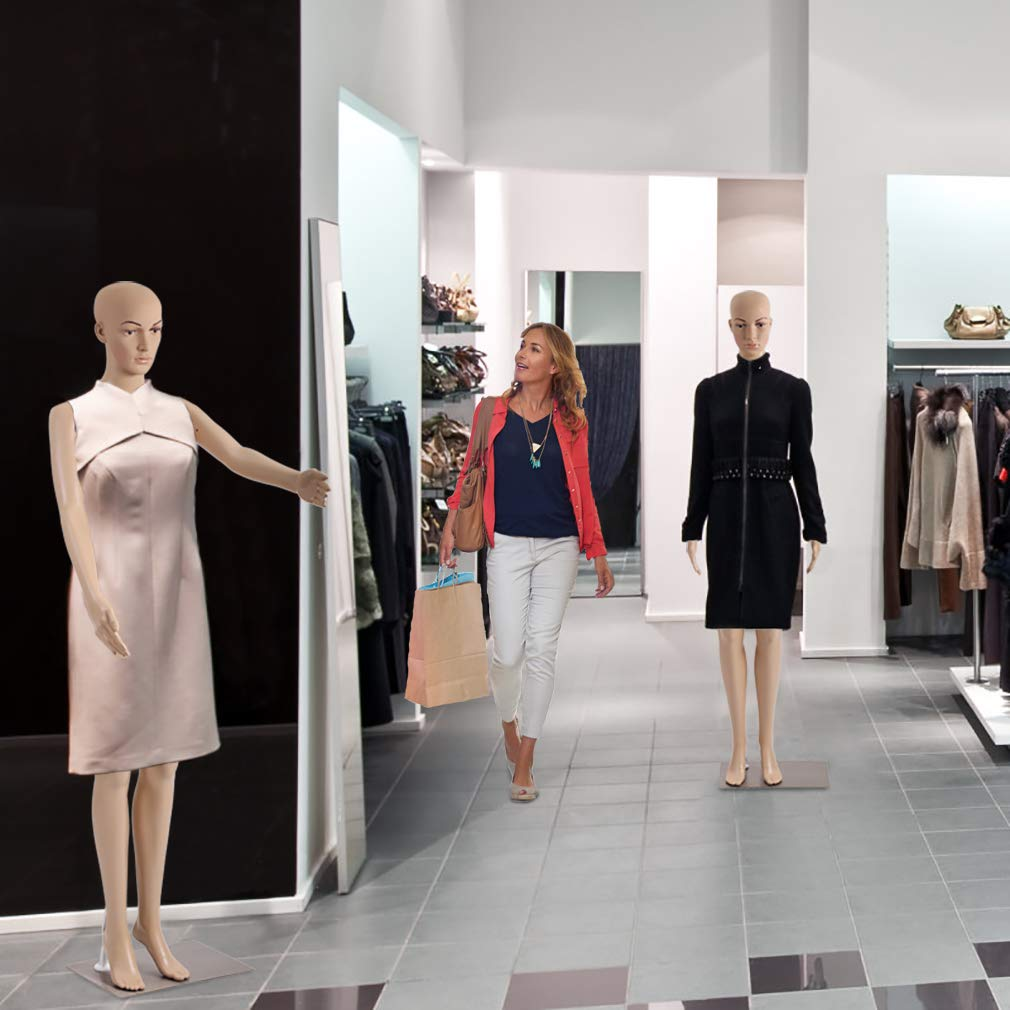person: (435, 309, 623, 813)
person-like: (41, 261, 339, 1000), (672, 274, 835, 799)
